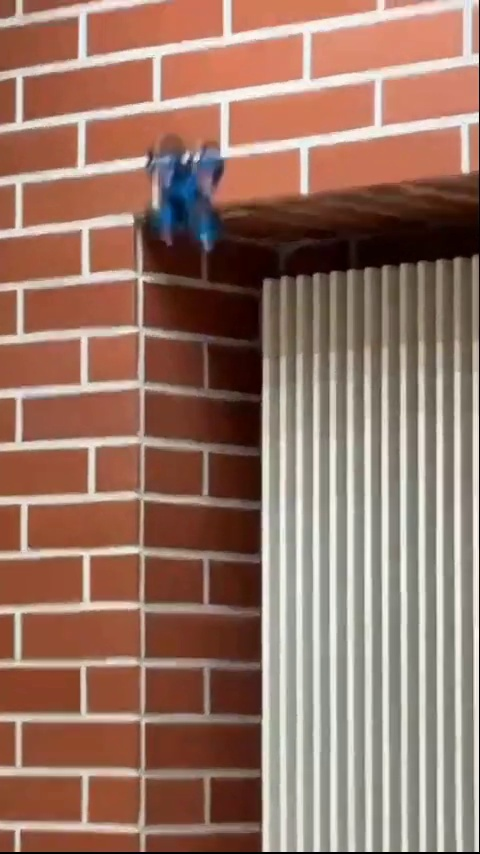drone: (137, 143, 230, 250)
